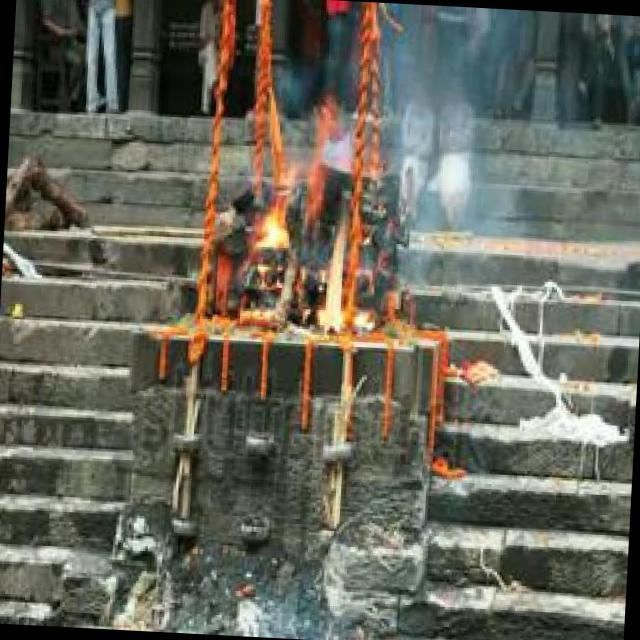Fire: (252, 94, 367, 343)
